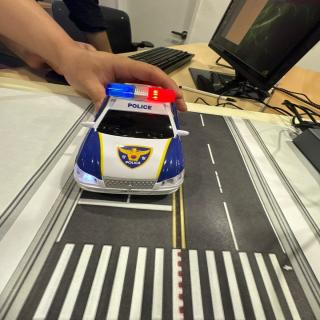Police_car: (74, 83, 188, 194)
